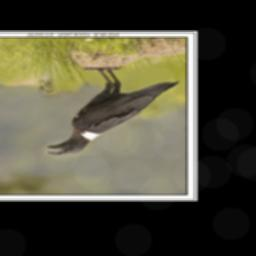Crow: (43, 65, 181, 156)
